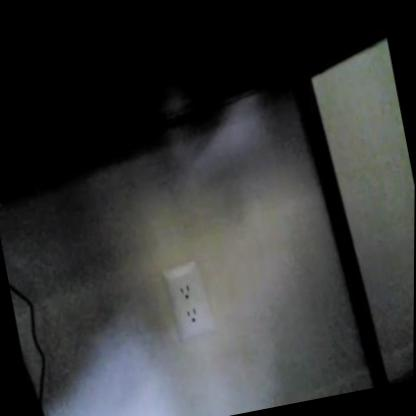OUTLET: (162, 259, 215, 337)
